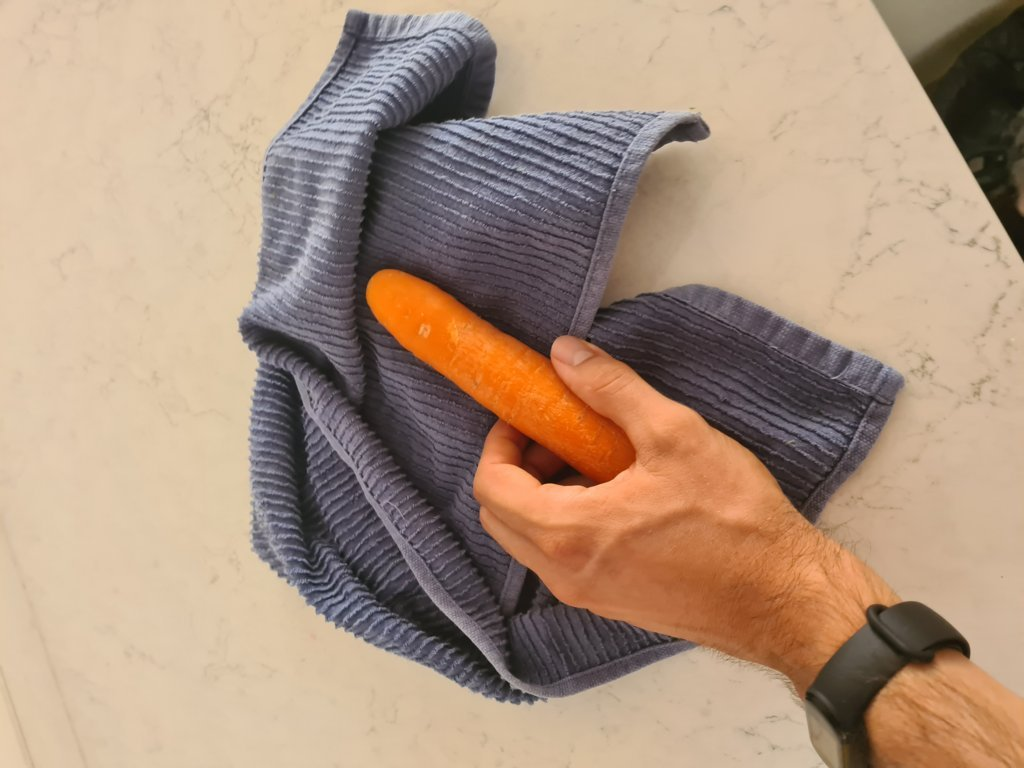carrot: (361, 261, 653, 477)
